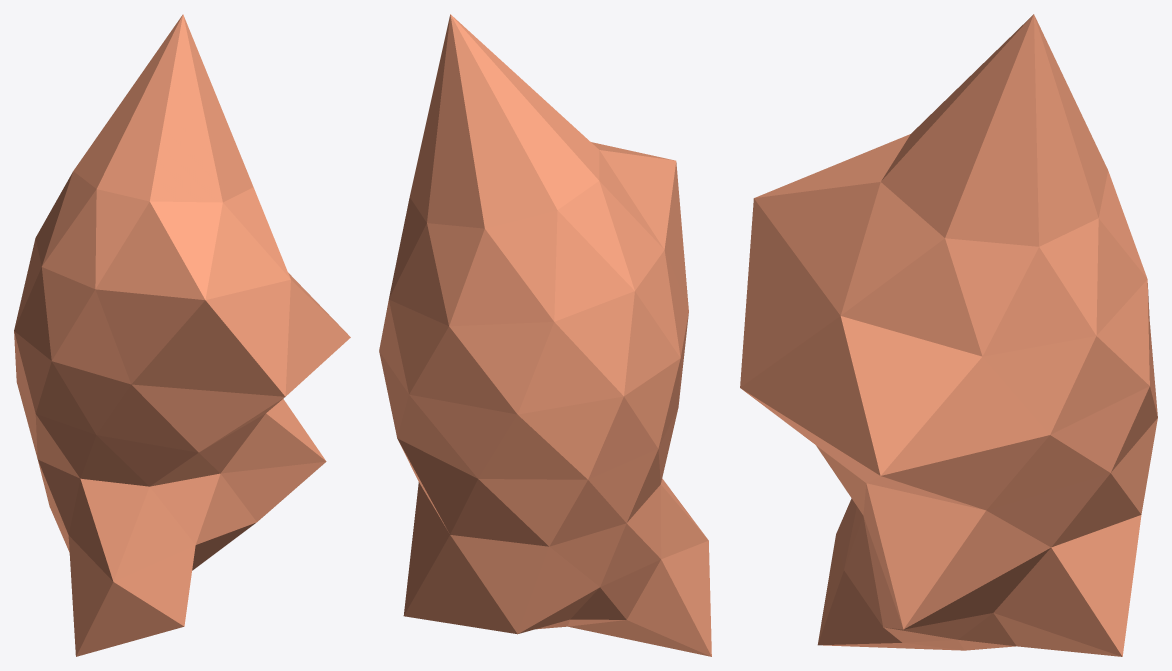
File: stone4.fbx
3 views of the same model, side by side, from view 1: azimuth 30°, elevation 25°; view 2: azimuth 150°, elevation 25°; view 3: azimuth 270°, elevation 25° (orthographic). The views are drawn at different scales.
Parts seen in each view (by area): view 1: stone_obj; view 2: stone_obj; view 3: stone_obj.
Part boxes in pixels (bbox=[...]): stone_obj: bbox=[14, 14, 350, 656]; stone_obj: bbox=[379, 14, 711, 656]; stone_obj: bbox=[740, 14, 1157, 656].
Bounding box in the file's own units: 2.18 × 4.23 × 2.23.
